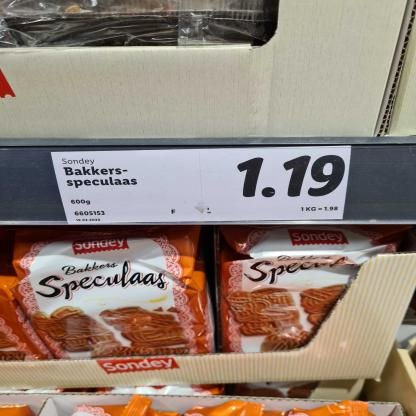prtg: (52, 147, 352, 225)
